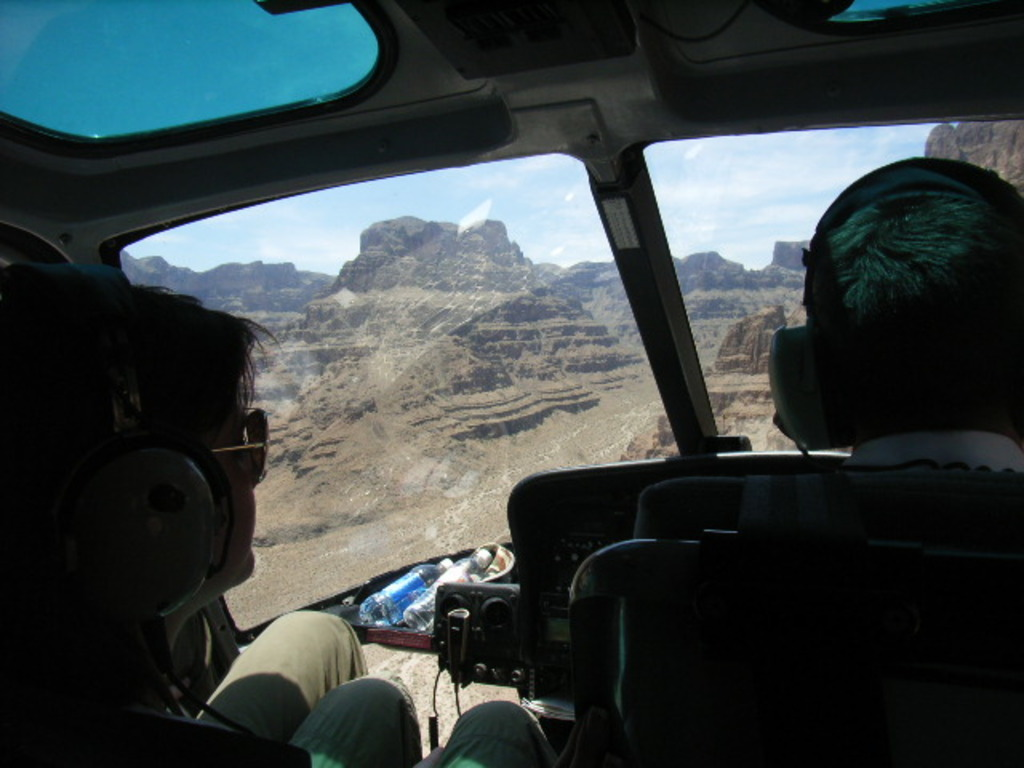Person: (630, 158, 1024, 766), (195, 611, 369, 744)
